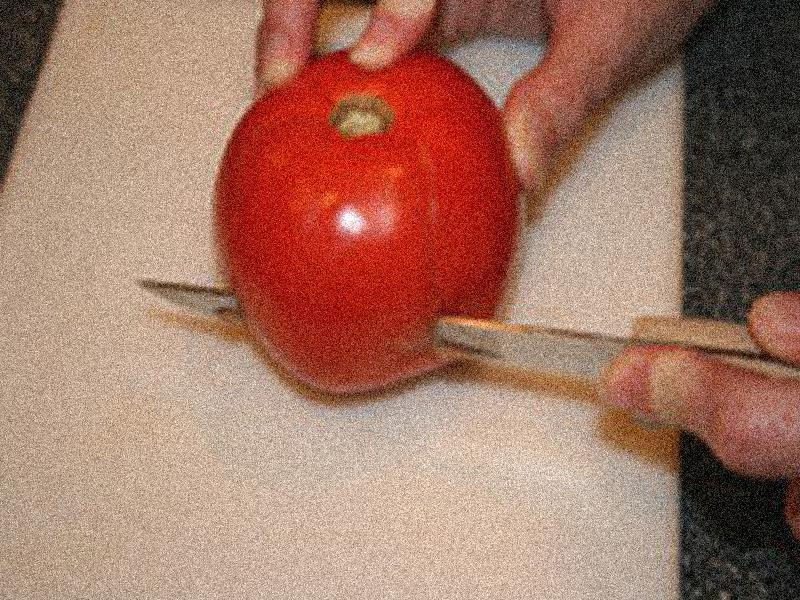Tomato: (210, 46, 518, 392)
